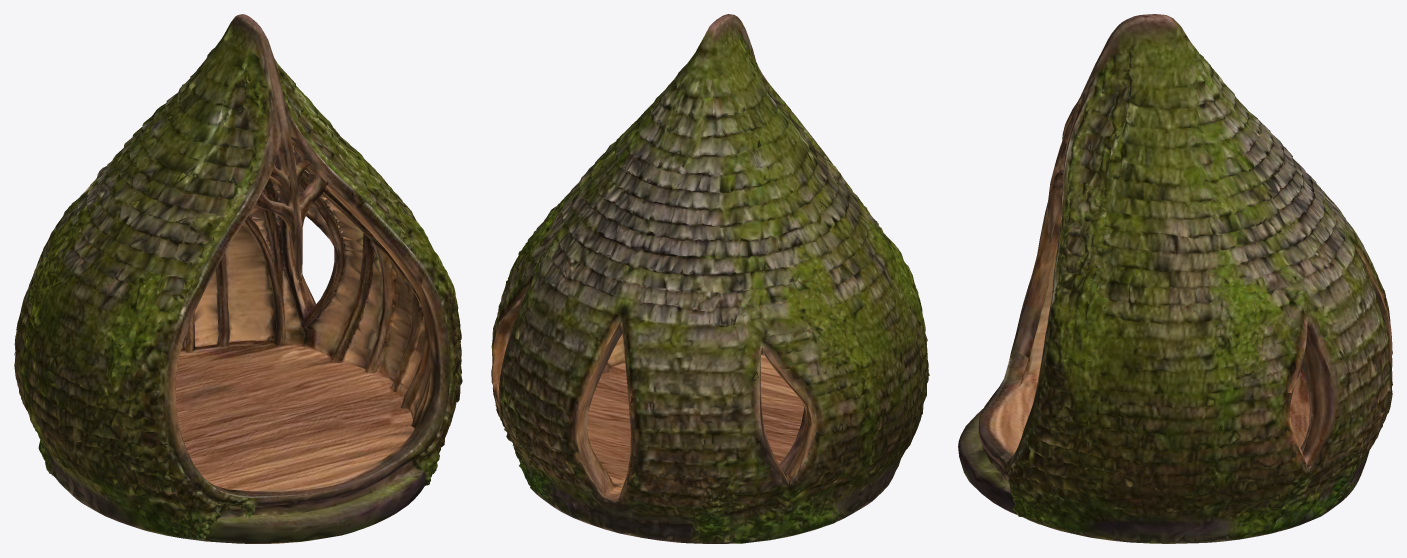
The model's file is Mosswood_Teardrop_Hou.glb.
The picture shows the model from 3 angles, left to right: view 1: azimuth 30°, elevation 25°; view 2: azimuth 150°, elevation 25°; view 3: azimuth 270°, elevation 25°; orthographic projection. The views are drawn at different scales.
Parts seen in each view (by area): view 1: Mosswood_Teardrop_Hou; view 2: Mosswood_Teardrop_Hou; view 3: Mosswood_Teardrop_Hou.
Boxes of the visible parts, bbox=[...] form: Mosswood_Teardrop_Hou: bbox=[14, 14, 462, 543]; Mosswood_Teardrop_Hou: bbox=[491, 14, 929, 543]; Mosswood_Teardrop_Hou: bbox=[958, 14, 1392, 543].
Bounding box in the file's own units: 1.71 × 1.9 × 1.66.
Materials: 1 (1 with a texture image).
